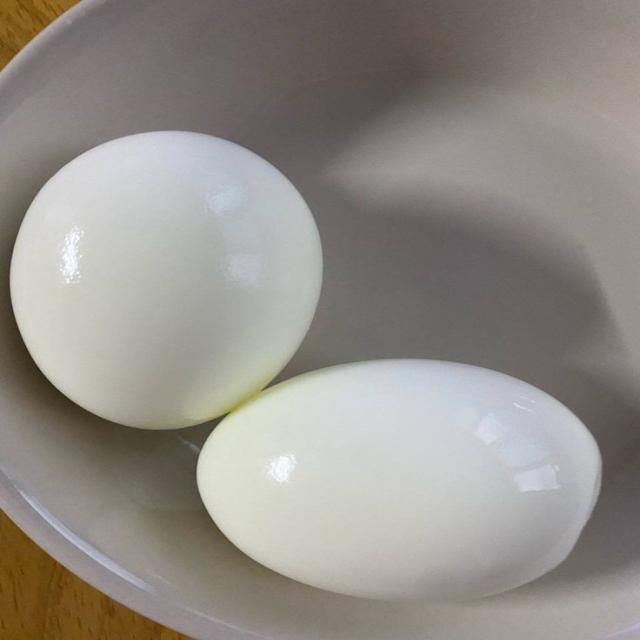egg boiled: (198, 360, 600, 599), (11, 132, 321, 428)
